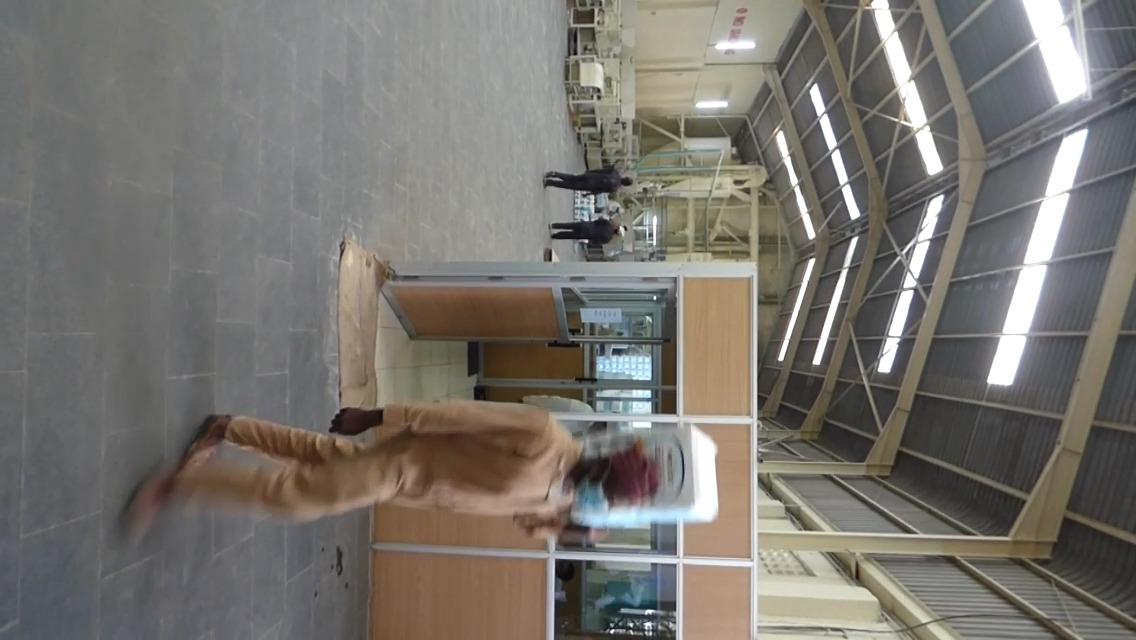wheat_flour_blue_label: (716, 520, 878, 640), (582, 428, 716, 520)
